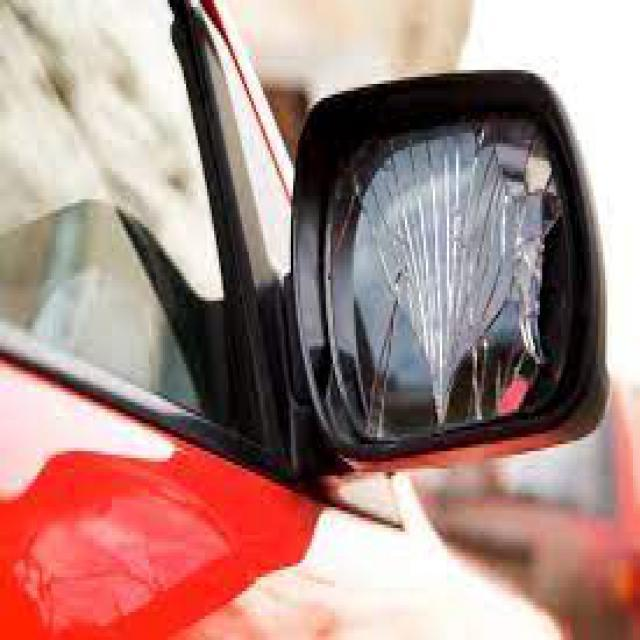Sidemirror-Damage: (274, 77, 610, 455)
